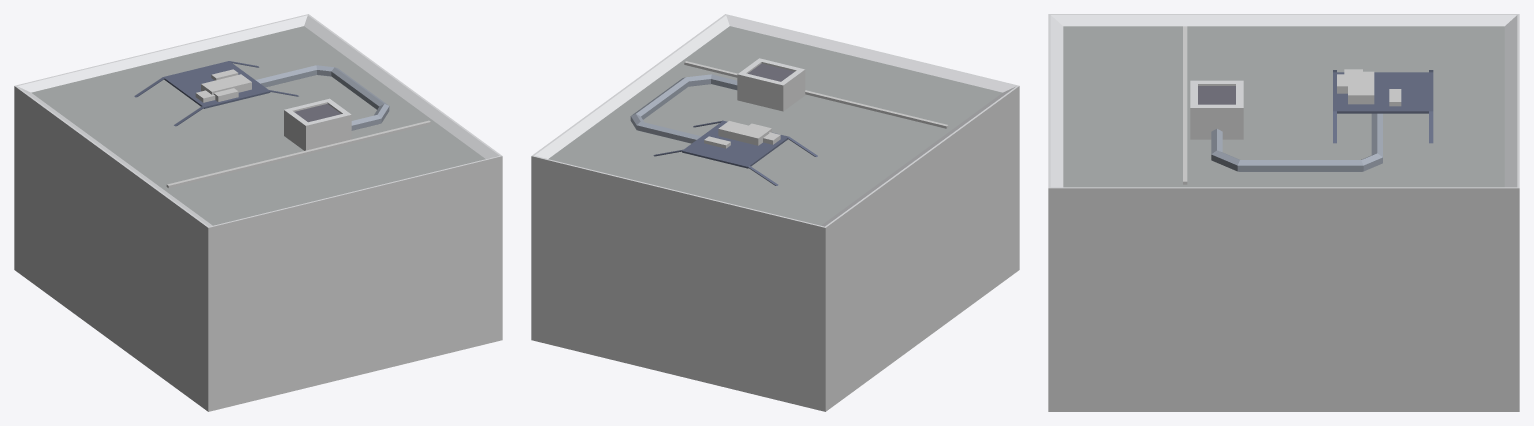
File: greenlaw.dae
3 renders of one model, left to right at view 1: azimuth 30°, elevation 25°; view 2: azimuth 150°, elevation 25°; view 3: azimuth 270°, elevation 25°, orthographic. The views are drawn at different scales.
Parts seen in each view (by area): view 1: SketchUp (×11); view 2: SketchUp (×11); view 3: SketchUp (×11).
Part boxes in pixels (x1=…): SketchUp (×11): x1=14, y1=14, x2=502, y2=411; SketchUp (×11): x1=531, y1=14, x2=1019, y2=411; SketchUp (×11): x1=1048, y1=14, x2=1519, y2=411.
Bounding box in the file's own units: 161 × 184 × 108.
